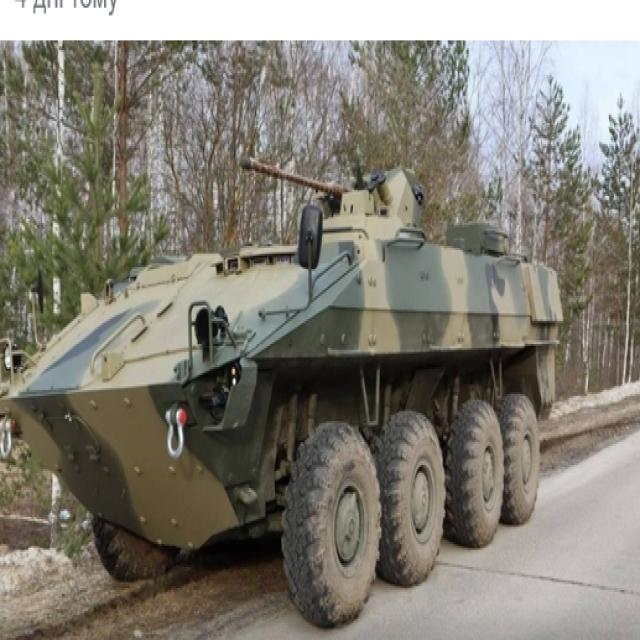MIL_APC: (0, 183, 577, 625)
